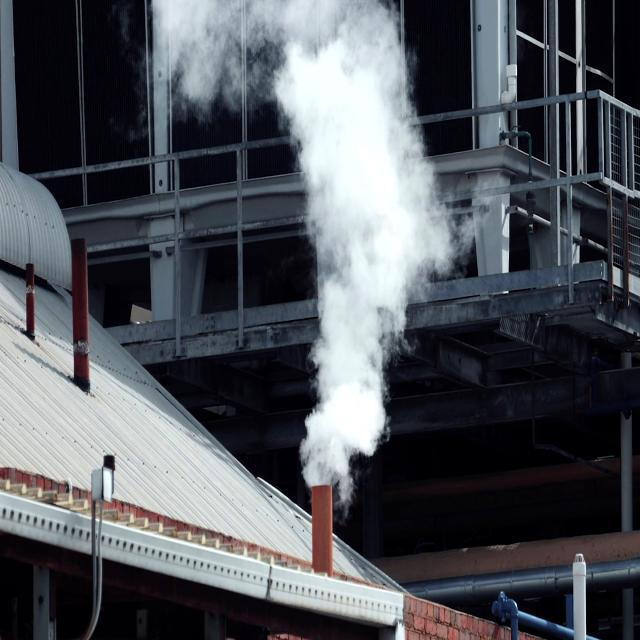Smoke: (267, 0, 453, 500), (142, 4, 298, 120)
